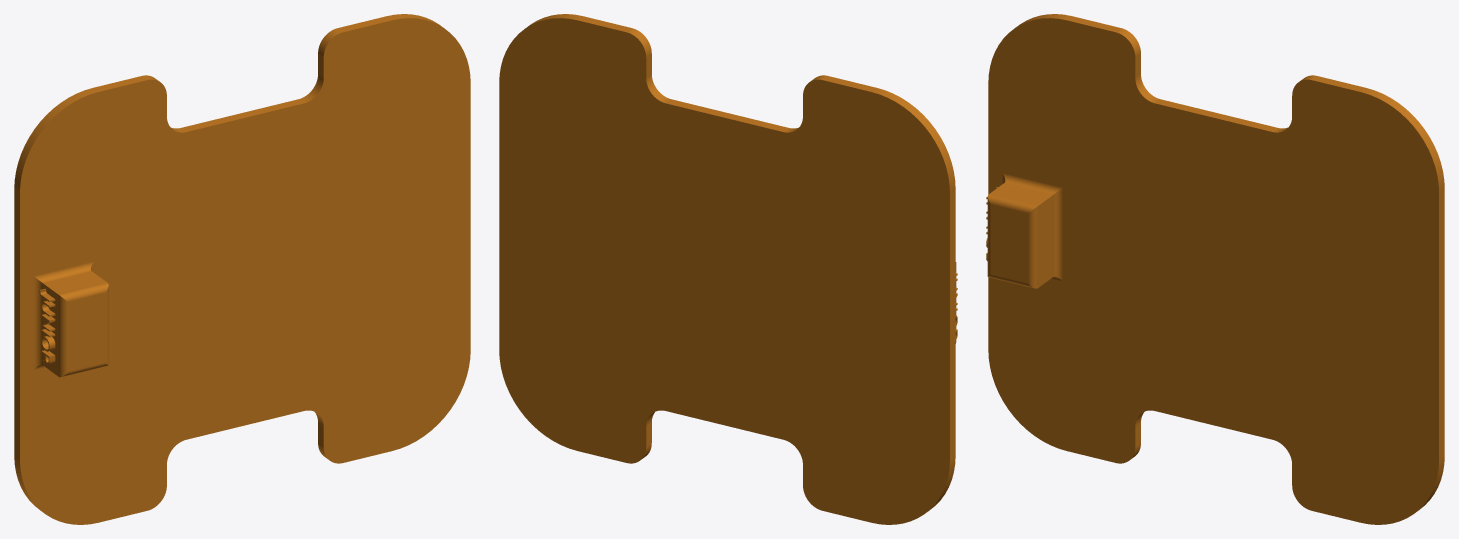
The model's file is custom_base.obj.
The picture shows the model from 3 angles, left to right: view 1: azimuth 30°, elevation 25°; view 2: azimuth 150°, elevation 25°; view 3: azimuth 330°, elevation 25°; orthographic projection.
Parts seen in each view (by area): view 1: mesh25, mesh34, mesh14, mesh13, mesh26, mesh32, mesh36, mesh8, mesh38, mesh28; view 2: mesh21, mesh14, mesh13, mesh8; view 3: mesh25, mesh34, mesh2, mesh31, mesh3, mesh29, mesh32, mesh33, mesh8, mesh28.
Boxes of the visible parts, <box> form: mesh25: <box>20,18,470,524</box>; mesh34: <box>68,293,105,371</box>; mesh14: <box>14,189,19,459</box>; mesh13: <box>14,88,97,192</box>; mesh26: <box>33,276,42,369</box>; mesh32: <box>43,271,107,294</box>; mesh36: <box>58,295,67,377</box>; mesh8: <box>181,99,303,131</box>; mesh38: <box>43,283,58,376</box>; mesh28: <box>34,261,93,282</box>; mesh21: <box>499,18,949,524</box>; mesh14: <box>950,189,955,459</box>; mesh13: <box>872,88,955,192</box>; mesh8: <box>666,99,788,131</box>; mesh25: <box>988,18,1438,524</box>; mesh34: <box>991,204,1028,282</box>; mesh2: <box>1439,189,1444,459</box>; mesh31: <box>1037,195,1053,287</box>; mesh3: <box>1361,88,1444,192</box>; mesh29: <box>1053,188,1062,281</box>; mesh32: <box>989,183,1052,206</box>; mesh33: <box>1028,206,1037,288</box>; mesh8: <box>1155,99,1277,131</box>; mesh28: <box>1002,173,1062,194</box>.
Bounding box in the file's own units: 0.23 × 0.21 × 0.025.
